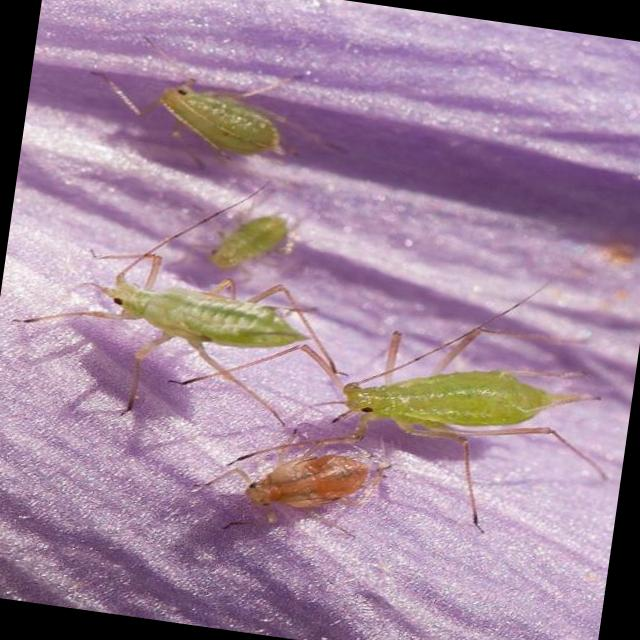aphid: (302, 310, 631, 520), (81, 21, 385, 210), (61, 234, 347, 431), (169, 414, 463, 558)
